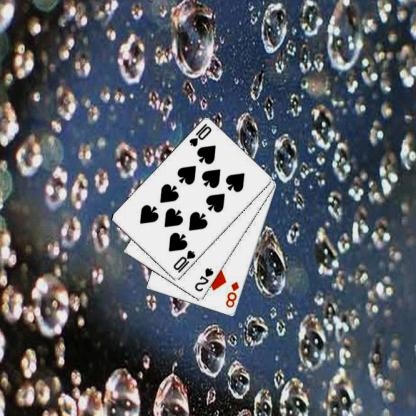10S: (186, 121, 213, 148), (170, 247, 196, 274)
2S: (192, 265, 215, 293)
8D: (223, 279, 240, 309)
